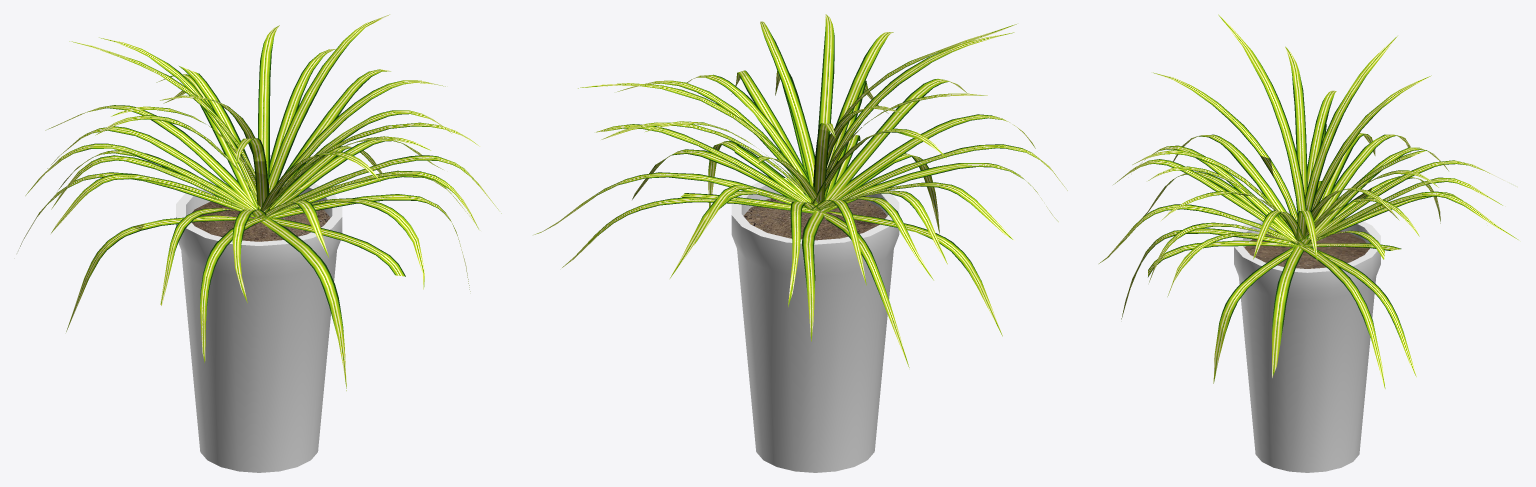
Rendered from Plant 1.FBX.
The picture shows the model from 3 angles, left to right: view 1: azimuth 30°, elevation 25°; view 2: azimuth 150°, elevation 25°; view 3: azimuth 270°, elevation 25°; orthographic projection. The views are drawn at different scales.
Parts seen in each view (by area): view 1: Plant 1; view 2: Plant 1; view 3: Plant 1.
Boxes of the visible parts, bbox=[...] form: Plant 1: bbox=[18, 14, 501, 472]; Plant 1: bbox=[534, 14, 1067, 472]; Plant 1: bbox=[1099, 14, 1518, 472].
Size of the model in its own units: 98.11 by 89.29 by 92.44.
Materials: 2 (2 with a texture image).
